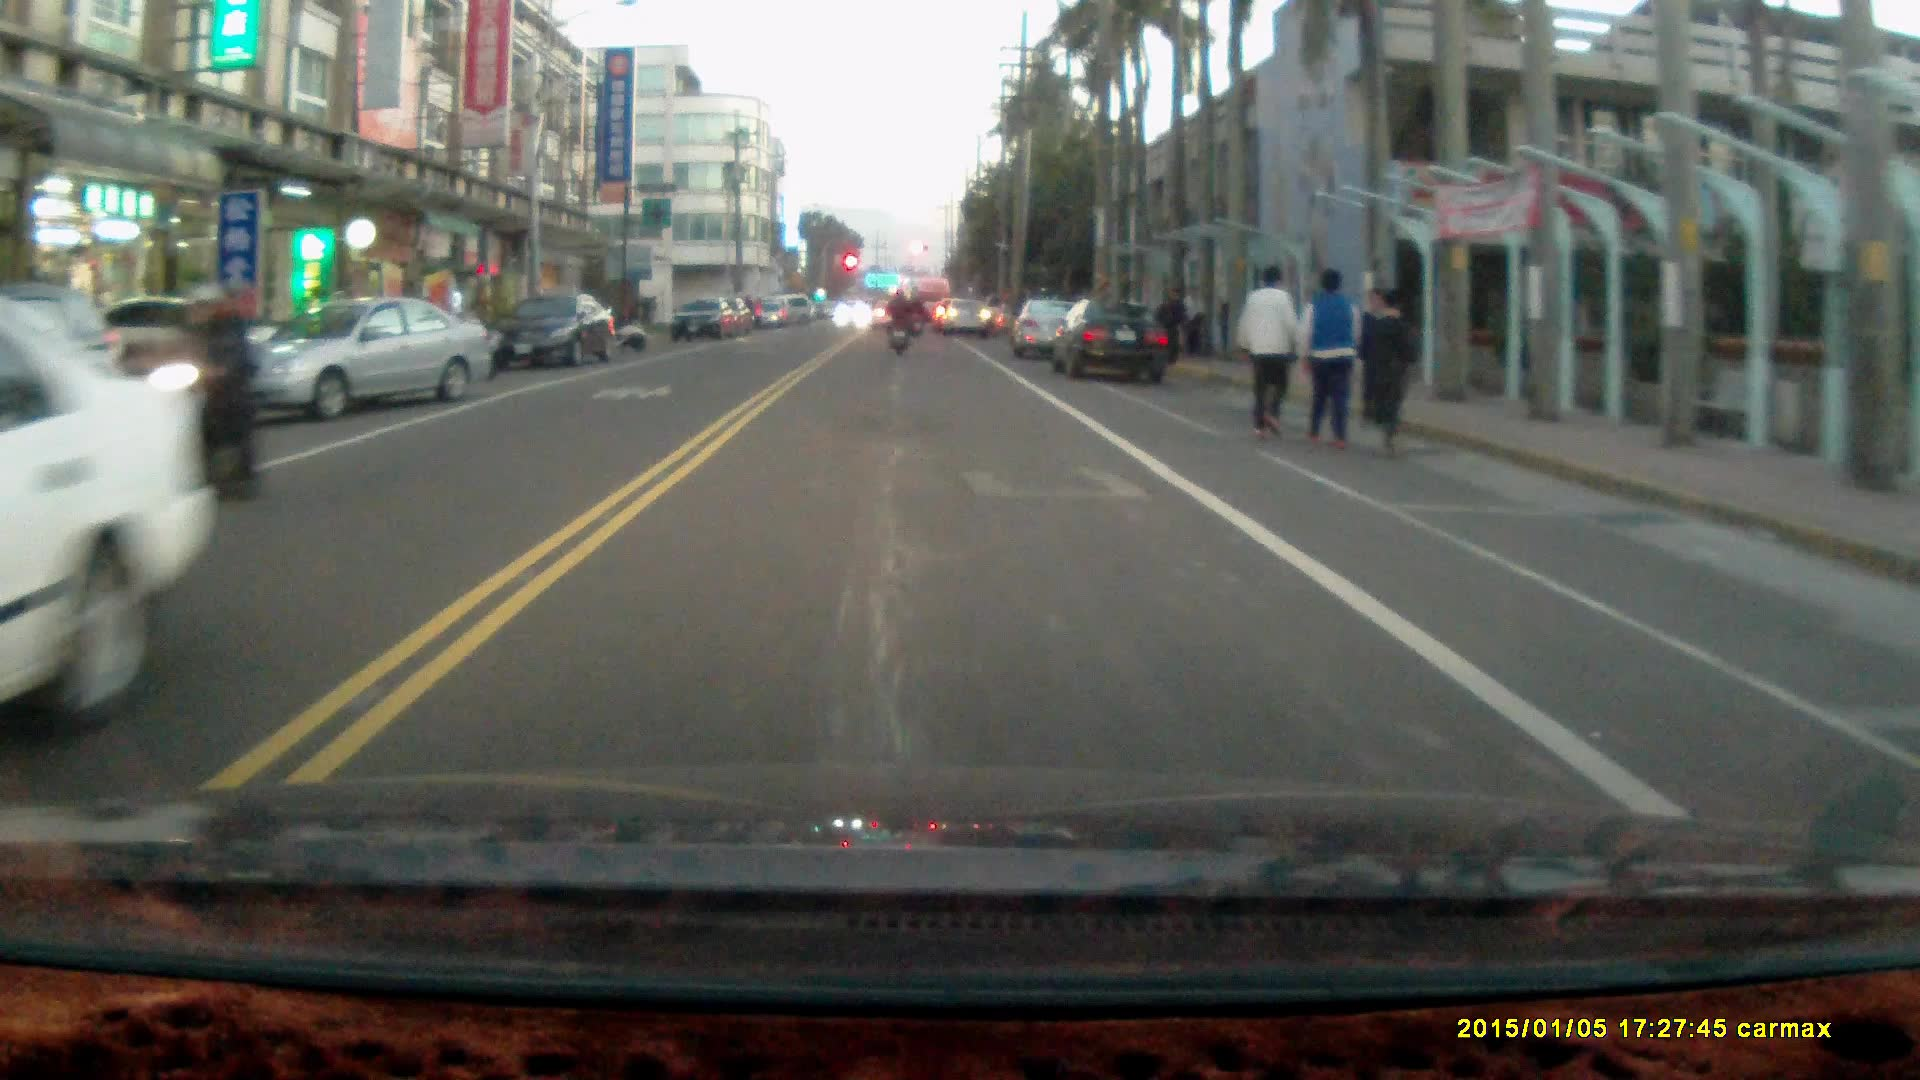pedestrian: (1291, 264, 1362, 452), (1237, 262, 1301, 441), (1363, 285, 1419, 454), (1155, 281, 1190, 361), (1177, 280, 1207, 361)
rider: (123, 278, 259, 521), (882, 284, 913, 355)
vehicle: (1, 295, 224, 728), (225, 294, 499, 416), (1052, 294, 1174, 380), (498, 289, 617, 368), (1015, 299, 1088, 362), (669, 300, 742, 345)
